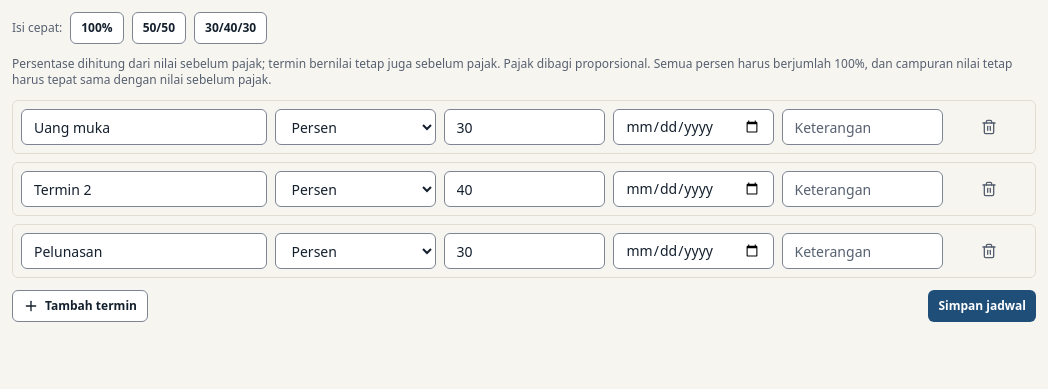
it: TermsEditor › shows the server's refusal
Click the button "Simpan jadwal" at [982, 306], box [928,290,1036,322]
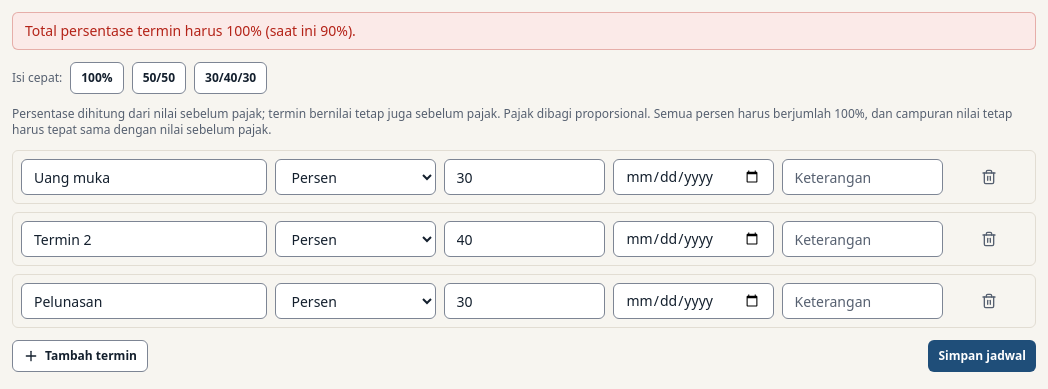
Check: the text "Total persentase termin harus 100% (saat ini 90%)." is shown, box [12,12,1036,50]
